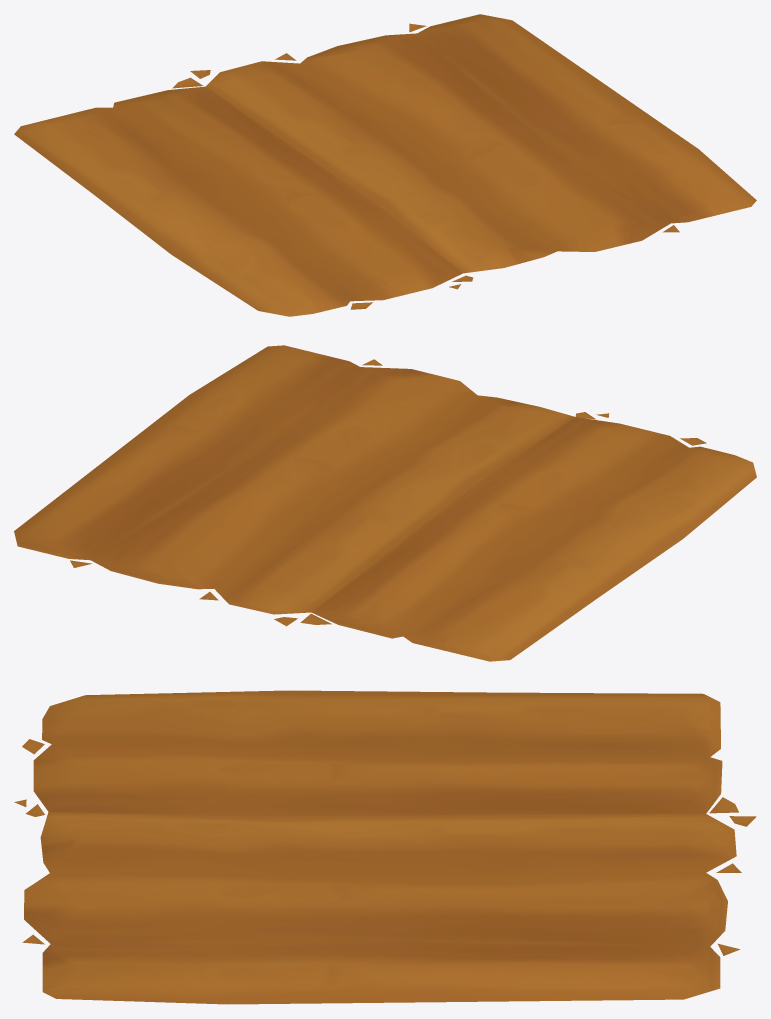
The model's file is Field.fbx.
3 renders of one model, top to bottom at view 1: azimuth 30°, elevation 25°; view 2: azimuth 150°, elevation 25°; view 3: azimuth 270°, elevation 25°, orthographic. The views are drawn at different scales.
Parts seen in each view (by area): view 1: Field; view 2: Field; view 3: Field.
Part boxes in pixels (x1,y1,x2,y2): Field: (14, 14, 756, 316); Field: (14, 345, 756, 661); Field: (14, 690, 756, 1004).
Bounding box in the file's own units: 200 × 4.15 × 200.
